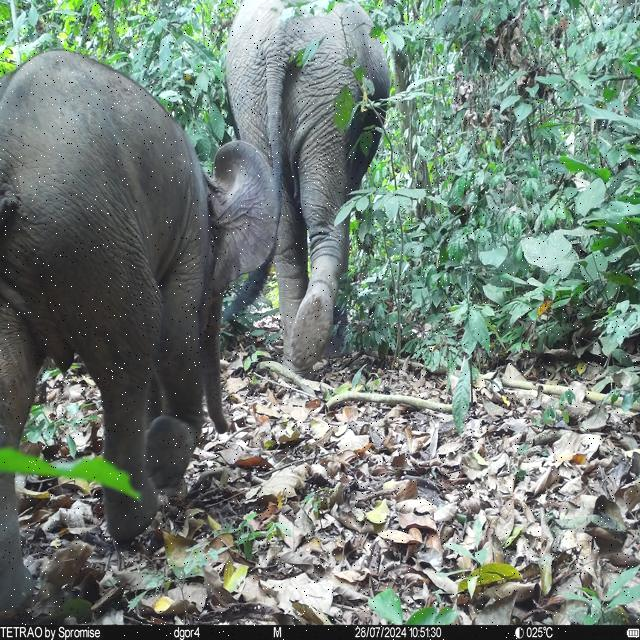calf: (0, 50, 282, 618)
ear: (208, 140, 282, 296)
elephant: (226, 42, 392, 394)
